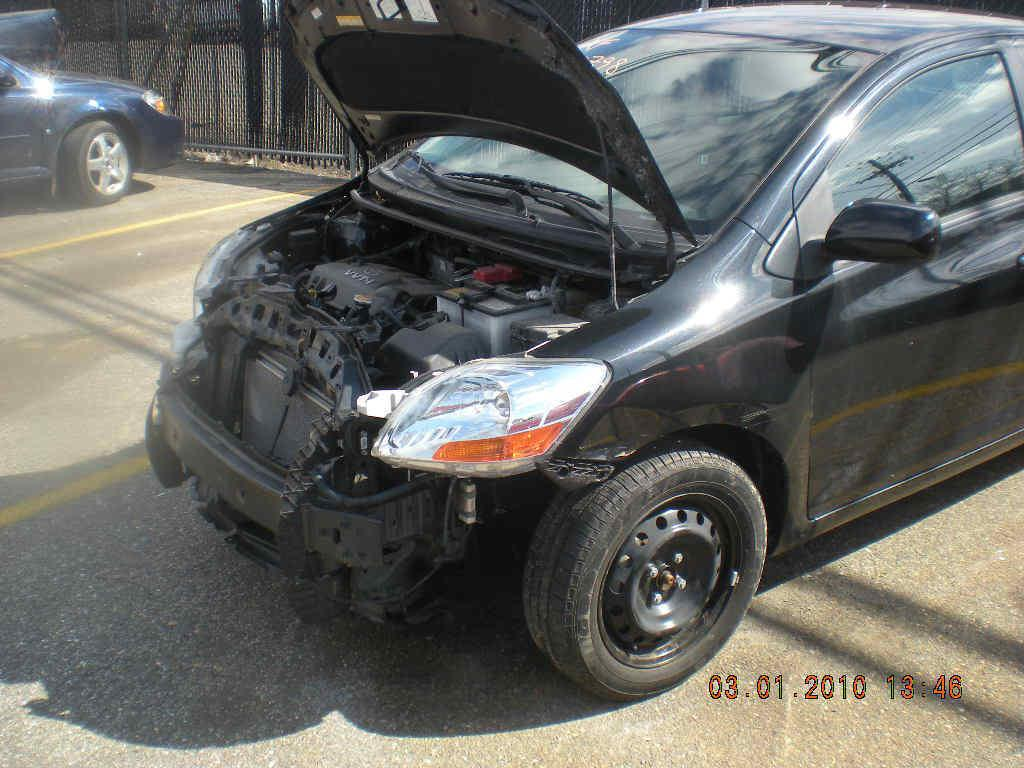front-bumper-dent: (163, 328, 402, 526)
